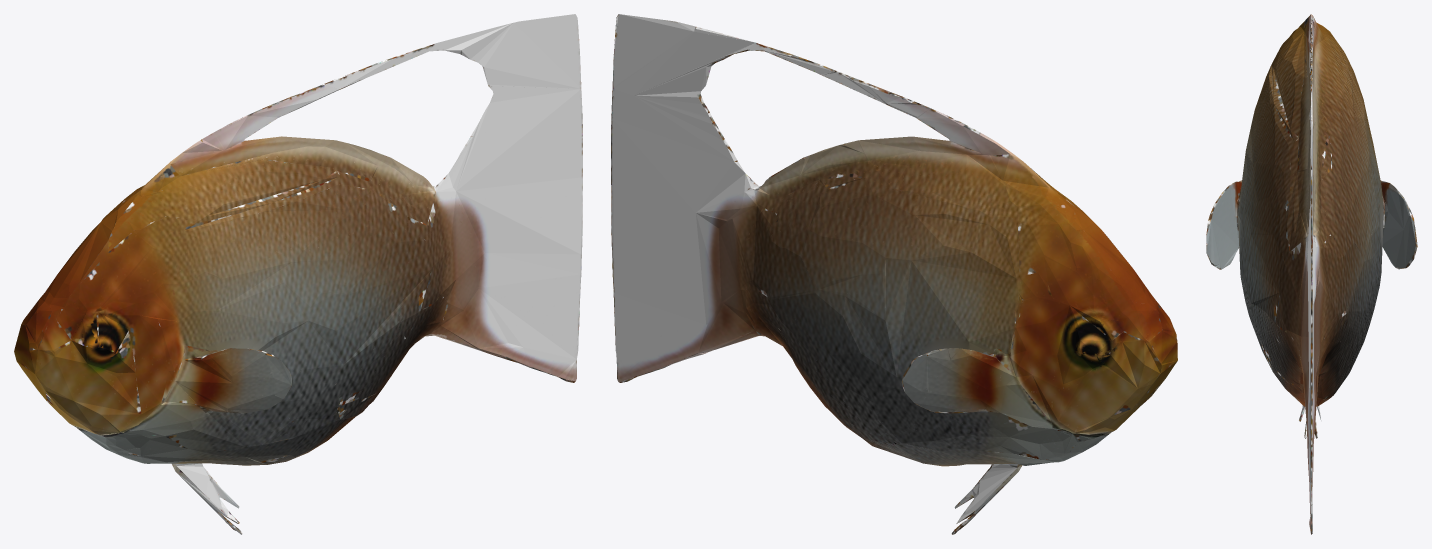
The model's file is fish_0090_smpl23_resized.glb.
3 renders of one model, left to right at view 1: azimuth 30°, elevation 25°; view 2: azimuth 150°, elevation 25°; view 3: azimuth 270°, elevation 25°, orthographic.
Parts seen in each view (by area): view 1: world; view 2: world; view 3: world.
Part boxes in pixels (x1,y1,x2,y2): world: (14,14,582,534); world: (611,14,1177,534); world: (1206,14,1417,534).
Bounding box in the file's own units: 1.99 × 1.51 × 0.6459.
Materials: 1 (1 with a texture image).
